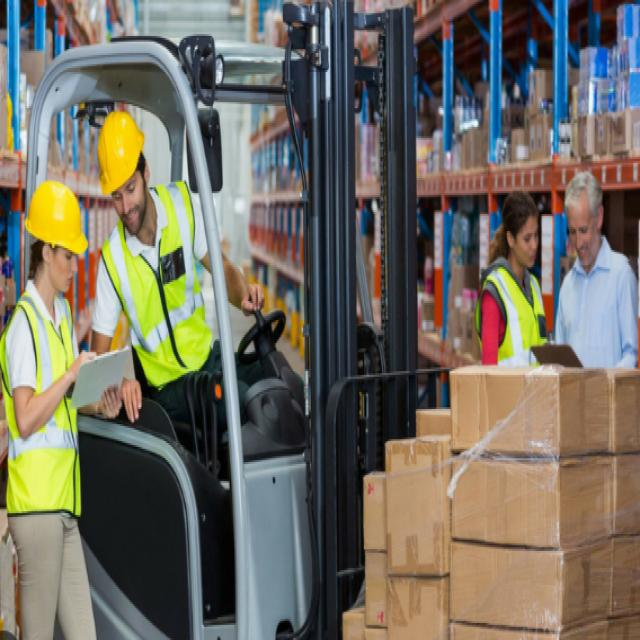helmet: (23, 179, 91, 300), (92, 107, 153, 236)
vest: (98, 177, 220, 394), (0, 294, 87, 527), (475, 268, 552, 404)
